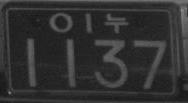0: (49, 11, 73, 34)
1: (56, 38, 88, 88), (17, 38, 47, 87), (77, 13, 99, 33)
3: (94, 38, 128, 89)
7: (133, 38, 166, 90)
누: (104, 12, 128, 34)
